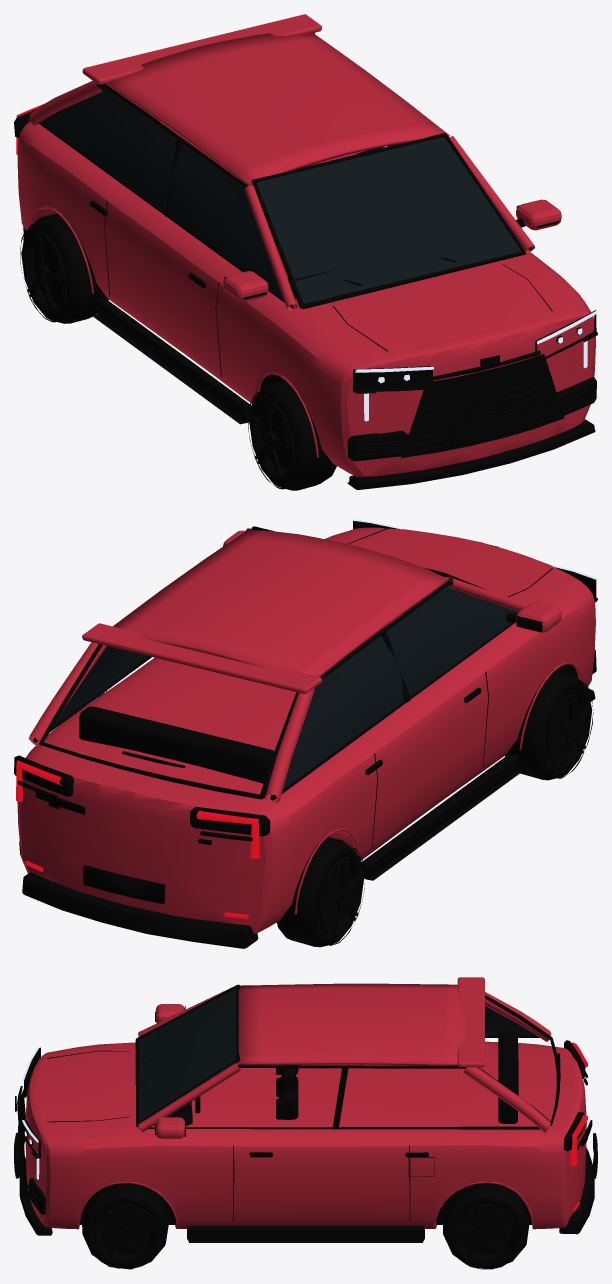
Rendered from myvi-mid.glb.
The picture shows the model from 3 angles, top to bottom: view 1: azimuth 30°, elevation 25°; view 2: azimuth 150°, elevation 25°; view 3: azimuth 270°, elevation 25°; orthographic projection. The views are drawn at different scales.
Visible parts, largest first — view 1: chassis.001__Automotive clearcoat, chassis.001__Solar glass, chassis.001__Vehicle detail atlas, wheel_FL.001__Vehicle detail atlas, wheel_RL.001__Vehicle detail atlas, chassis.001__White LED optics; view 2: chassis.001__Automotive clearcoat, chassis.001__Vehicle detail atlas, chassis.001__Solar glass, wheel_RL.001__Vehicle detail atlas, wheel_FL.001__Vehicle detail atlas, chassis.001__Red LED optics; view 3: chassis.001__Automotive clearcoat, chassis.001__Vehicle detail atlas, chassis.001__Solar glass, wheel_RR.001__Vehicle detail atlas, wheel_FR.001__Vehicle detail atlas, chassis.001__Red LED optics.
Part boxes in pixels (x1,y1,x2,y2): chassis.001__Automotive clearcoat: (17, 14, 595, 476); chassis.001__Solar glass: (42, 86, 521, 306); chassis.001__Vehicle detail atlas: (14, 83, 596, 489); wheel_FL.001__Vehicle detail atlas: (248, 380, 336, 490); wheel_RL.001__Vehicle detail atlas: (20, 213, 108, 323); chassis.001__White LED optics: (355, 311, 597, 421); chassis.001__Automotive clearcoat: (17, 527, 595, 933); chassis.001__Vehicle detail atlas: (14, 520, 596, 948); chassis.001__Solar glass: (53, 584, 518, 798); wheel_RL.001__Vehicle detail atlas: (276, 837, 365, 947); wheel_FL.001__Vehicle detail atlas: (505, 670, 593, 780); chassis.001__Red LED optics: (16, 760, 259, 919); chassis.001__Automotive clearcoat: (25, 977, 586, 1229); chassis.001__Vehicle detail atlas: (14, 984, 597, 1242); chassis.001__Solar glass: (138, 988, 535, 1122); wheel_RR.001__Vehicle detail atlas: (442, 1183, 529, 1269); wheel_FR.001__Vehicle detail atlas: (82, 1183, 168, 1269); chassis.001__Red LED optics: (570, 1042, 587, 1211).
Bounding box in the file's own units: 2.06 × 1.53 × 4.05.
Materials: 8 (6 with a texture image).
